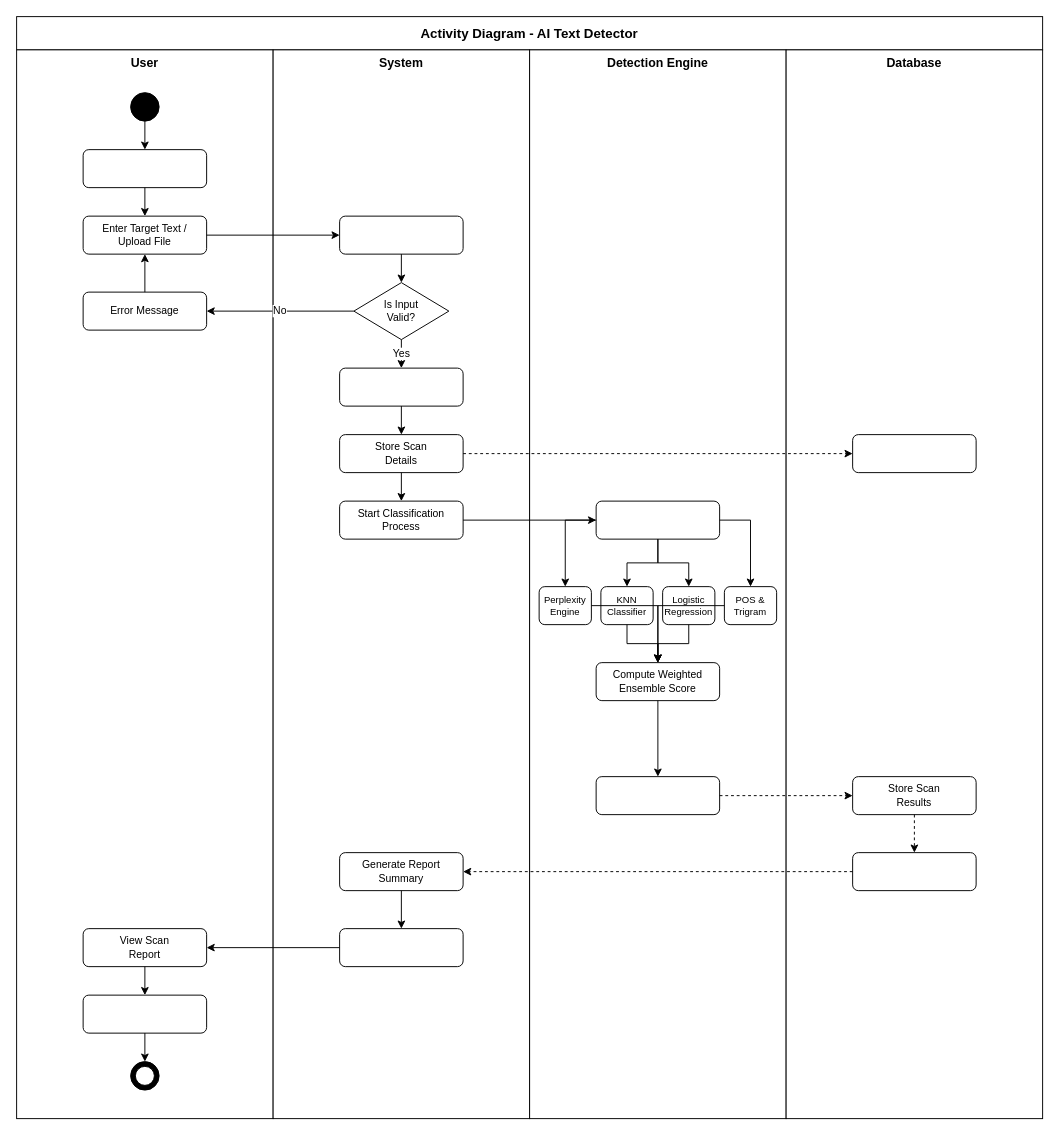
The diagram is 1059 pixels wide and 1135 high, and some of its shapes have lost their labels. Each missing label, with the centre of its shape:
"Create Scan Task" goes at (401,386).
"Download Report (PDF / JSON)" goes at (144,1013).
"Open Detector Dashboard" goes at (144,168).
"Preprocessing & Extraction" goes at (657,519).
"Present Result to User" goes at (401,947).
"Retrieve Data for Report" goes at (914,871).
"Save Scan Results" goes at (657,795).
"Store Scan Task" goes at (914,453).
"Validate Input" goes at (401,234).
